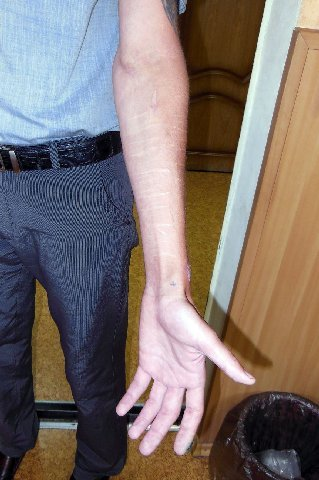tatu9_krest: (164, 278, 182, 294)
